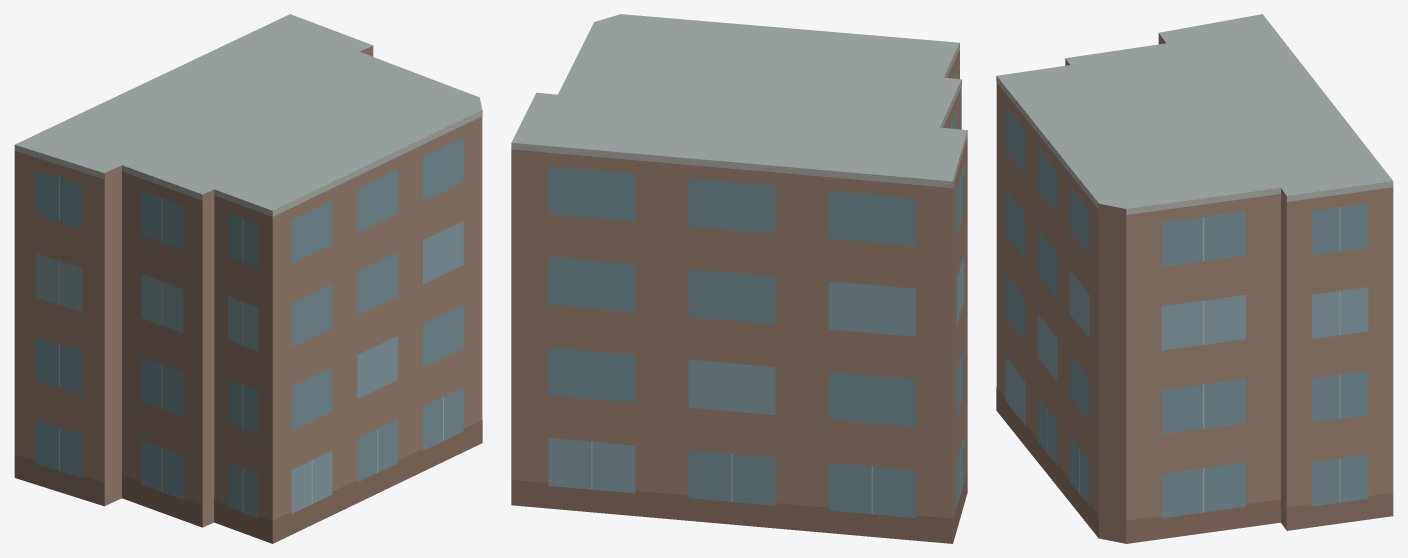
Rendered from survey-upis-32699246.glb.
3 renders of one model, left to right at view 1: azimuth 30°, elevation 25°; view 2: azimuth 150°, elevation 25°; view 3: azimuth 270°, elevation 25°, orthographic. The views are drawn at different scales.
Parts seen in each view (by area): view 1: survey-upis-32699246.tmp; view 2: survey-upis-32699246.tmp; view 3: survey-upis-32699246.tmp.
Part boxes in pixels (<box>): survey-upis-32699246.tmp: <box>14,14,482,543</box>; survey-upis-32699246.tmp: <box>511,14,967,543</box>; survey-upis-32699246.tmp: <box>996,14,1393,543</box>.
Bounding box in the file's own units: 16.65 × 13.32 × 14.32.
